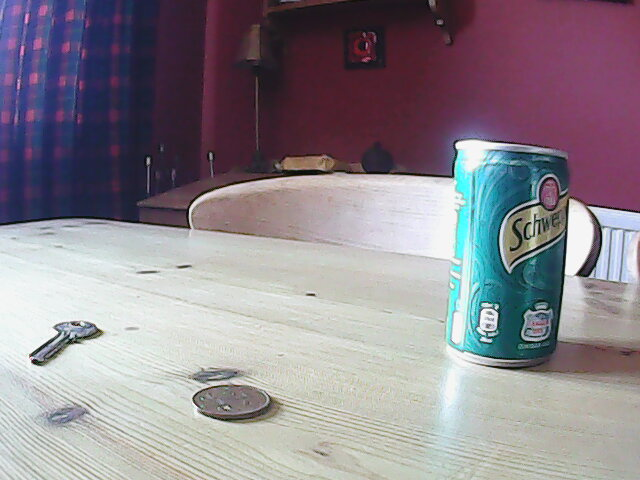Can: (443, 130, 573, 373)
Coin: (186, 380, 272, 420)
Key: (25, 317, 100, 369)
